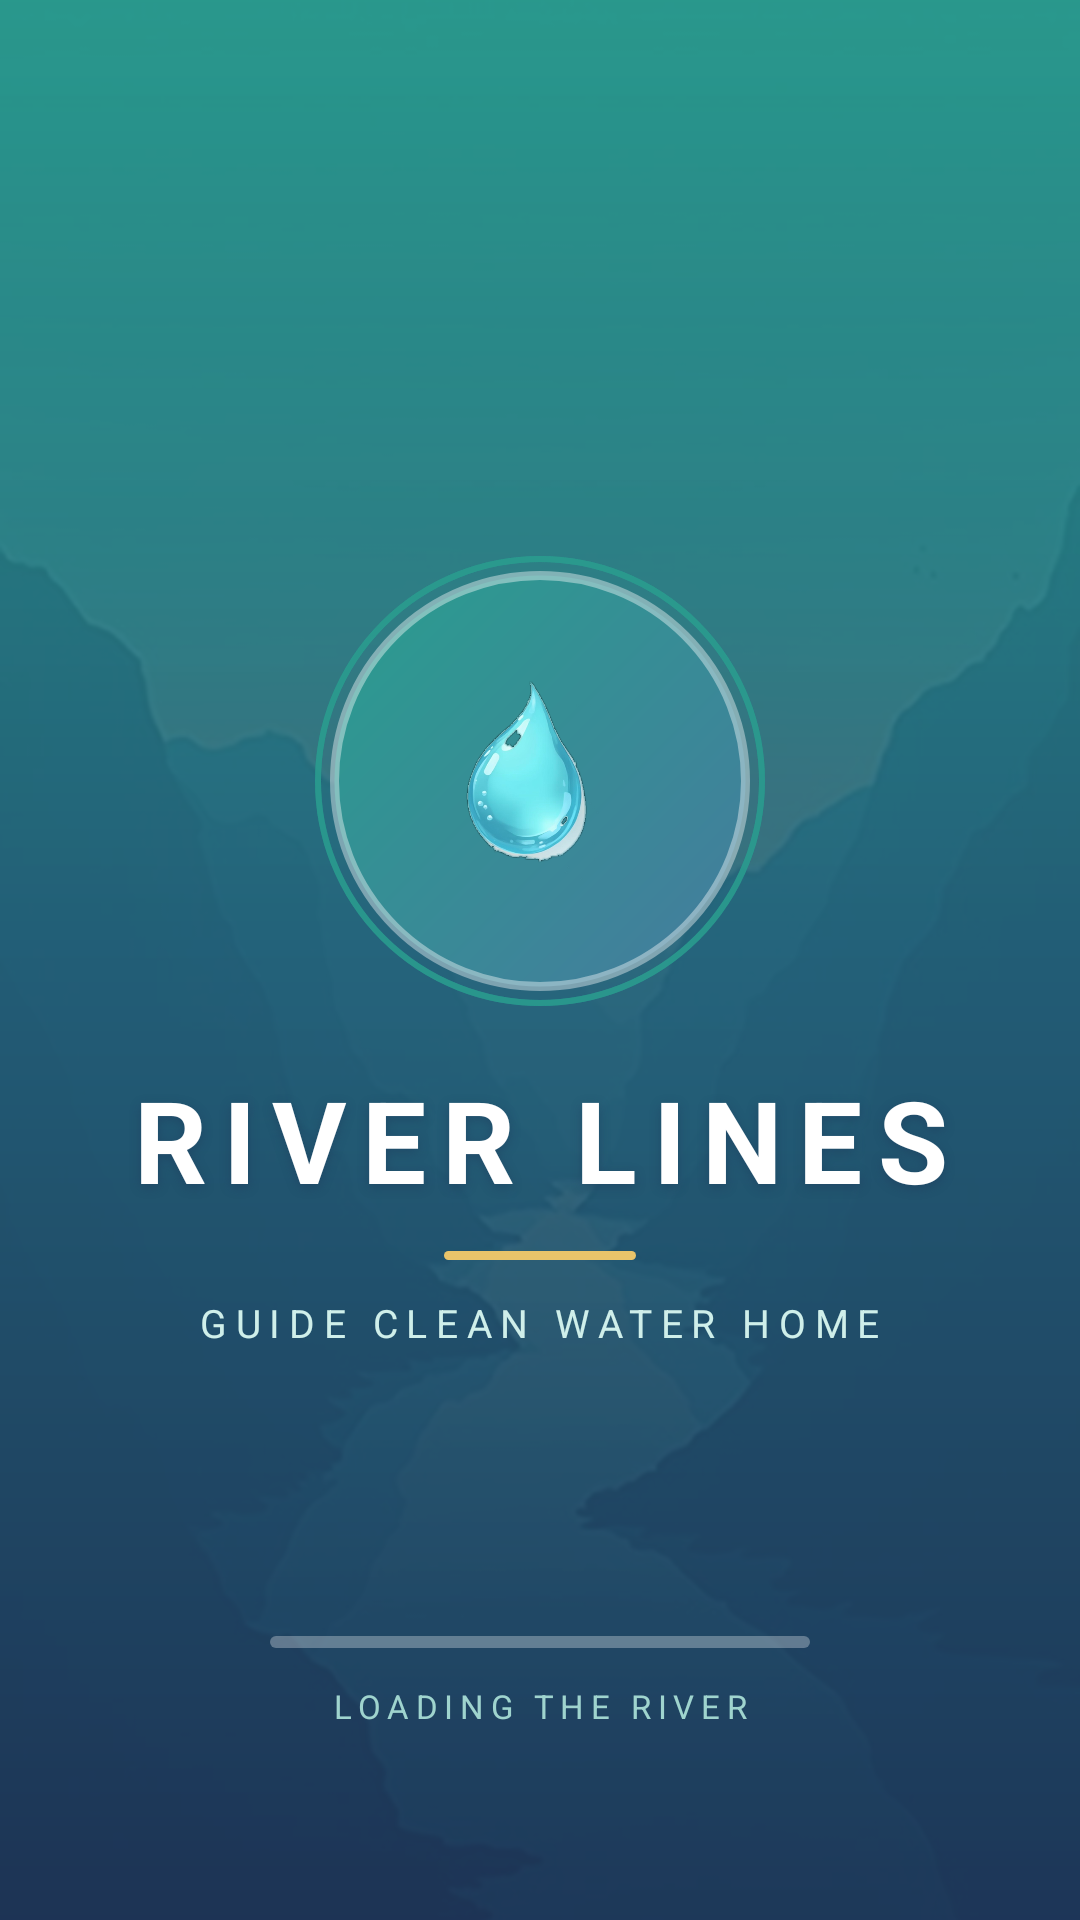

Screen size 1080 x 1920. Icon name, then its box in pixels as (x1, y1, x2, y2):
River Lines water drop emblem: (467, 683, 587, 862)
